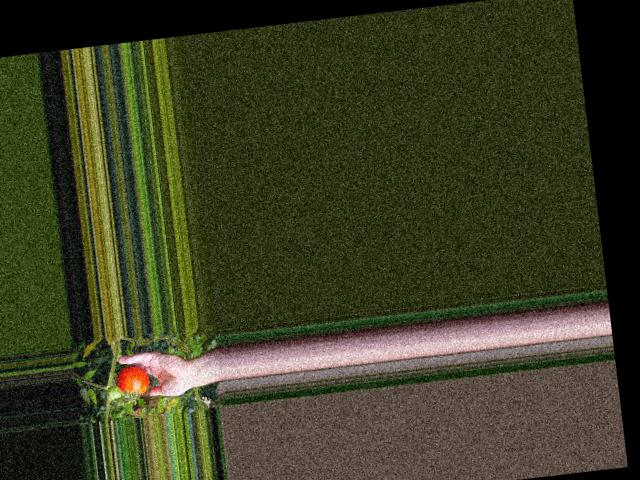tomato: (114, 364, 151, 396)
